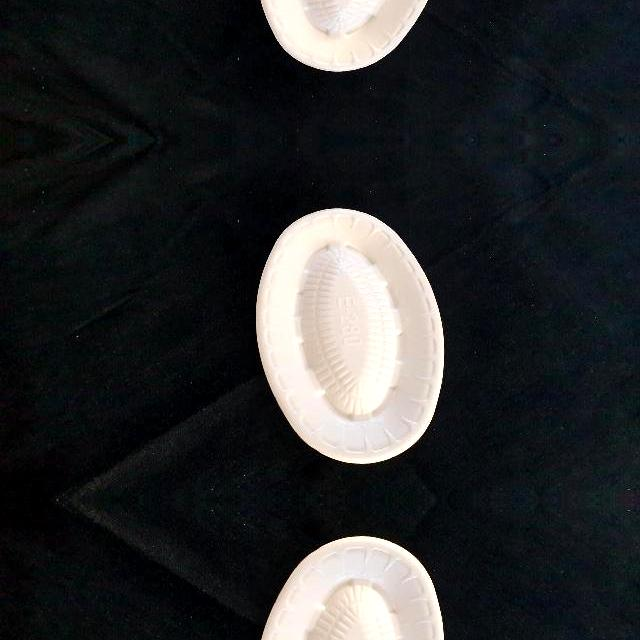Styrofoam: (256, 207, 446, 465), (256, 208, 445, 464), (256, 535, 446, 640), (261, 536, 444, 640), (256, 0, 446, 73), (261, 0, 429, 72)
